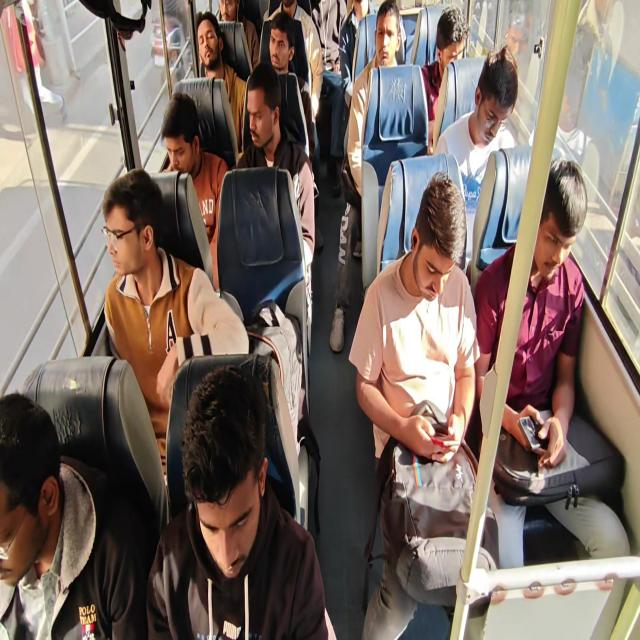person: (168, 359, 260, 640), (0, 399, 54, 597), (526, 166, 588, 304), (105, 186, 168, 313), (230, 79, 287, 175), (420, 186, 463, 304), (156, 103, 212, 186), (479, 47, 514, 154), (310, 0, 353, 86), (188, 8, 230, 79), (438, 14, 468, 71), (378, 0, 407, 56), (263, 34, 286, 78), (211, 0, 243, 29), (277, 0, 298, 29), (348, 0, 363, 13)
